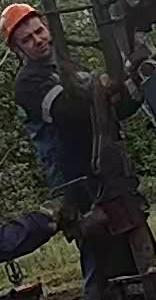gloves: (37, 192, 68, 238)
helmet: (0, 2, 39, 45)
vest: (16, 61, 94, 181)
